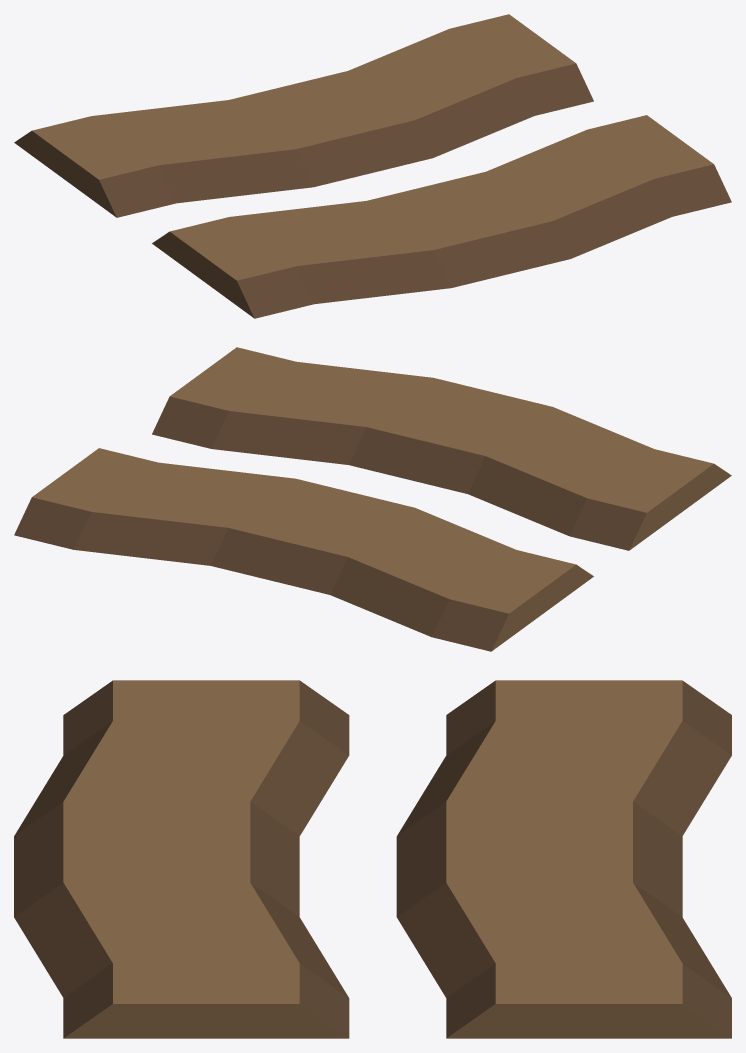
The model's file is community-garden.glb.
The picture shows the model from 3 angles, top to bottom: view 1: azimuth 30°, elevation 25°; view 2: azimuth 150°, elevation 25°; view 3: azimuth 270°, elevation 25°; orthographic projection. The views are drawn at different scales.
Parts seen in each view (by area): view 1: crops_dirtDoubleRow; view 2: crops_dirtDoubleRow; view 3: crops_dirtDoubleRow.
Boxes of the visible parts, box(x1,y1,x2,y2) form: crops_dirtDoubleRow: box(14, 14, 731, 318); crops_dirtDoubleRow: box(14, 347, 731, 651); crops_dirtDoubleRow: box(14, 680, 731, 1038).
Size of the model in its own units: 12.65 by 0.6331 by 11.86.
